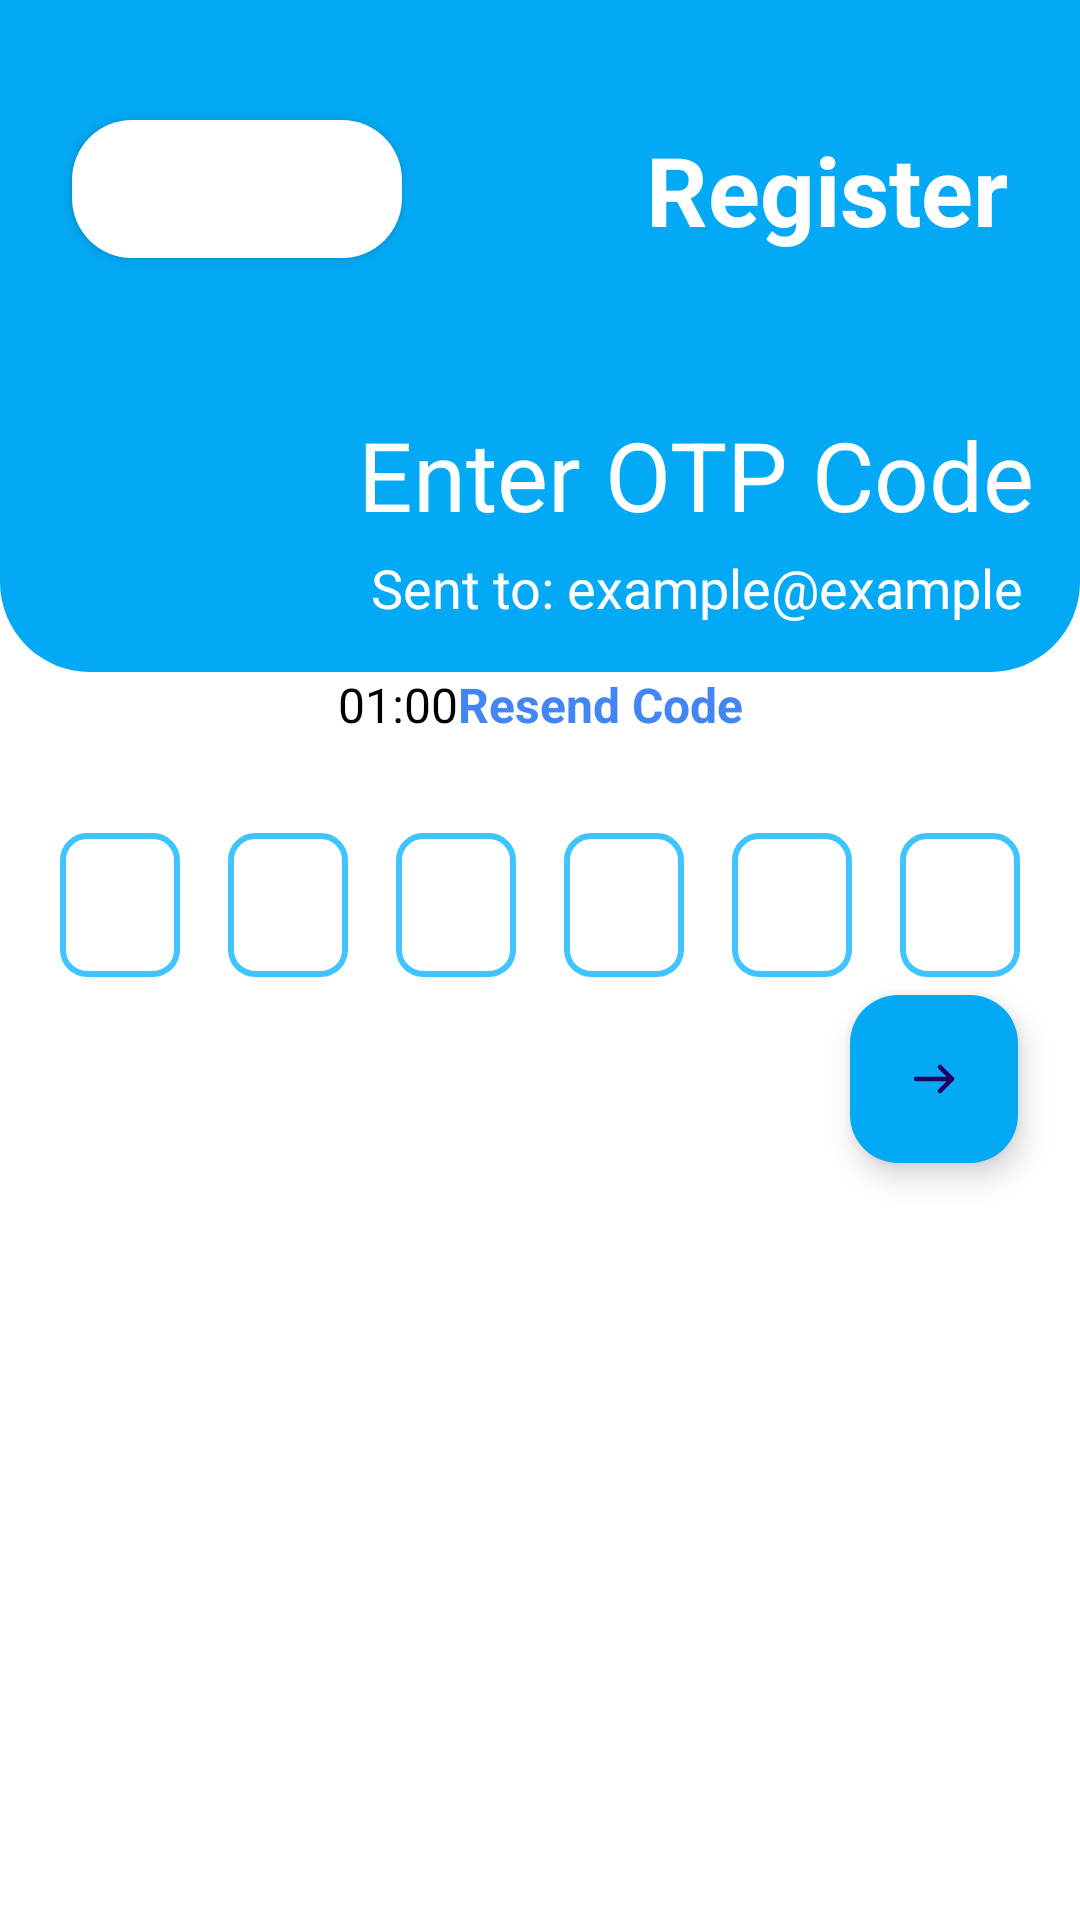

Named icons in this screenshot (1080x1920) and their bounding boxes, [x1,y1,x2,y2]:
continue: [850,995,1018,1163]
